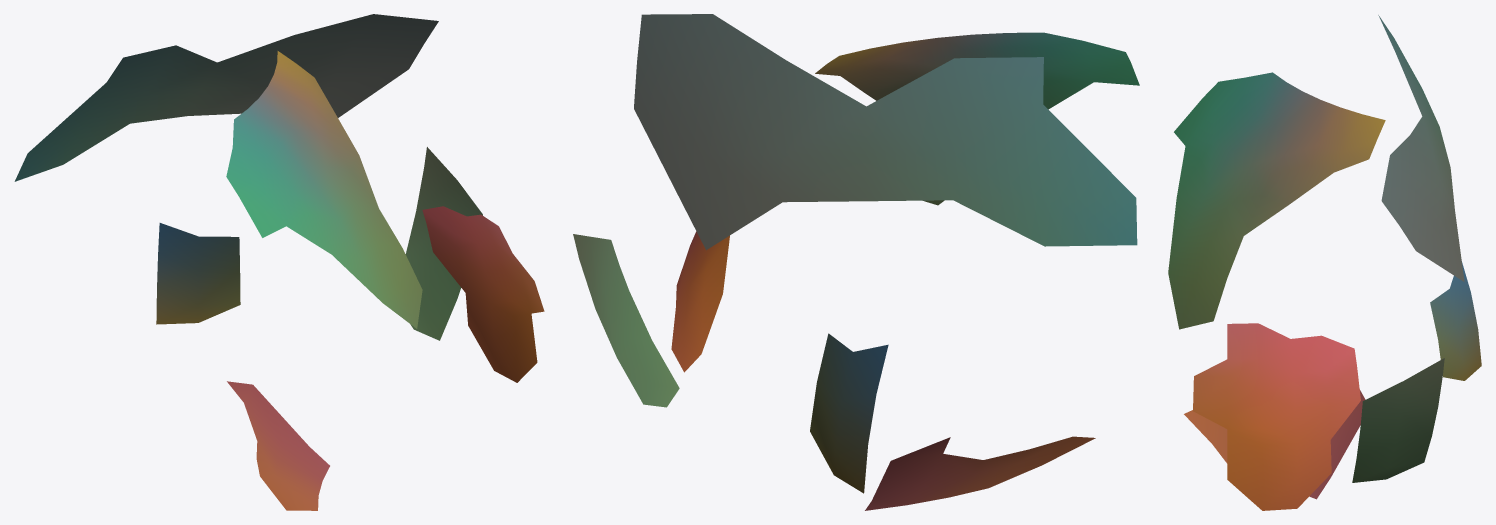
Rendered from space-nebulae-nebula_v19.glb.
The picture shows the model from 3 angles, left to right: view 1: azimuth 30°, elevation 25°; view 2: azimuth 150°, elevation 25°; view 3: azimuth 270°, elevation 25°; orthographic projection. The views are drawn at different scales.
Visible parts, largest first — view 1: Nebula_v19; view 2: Nebula_v19; view 3: Nebula_v19.
Boxes of the visible parts, x1,y1,x2,y2 form: Nebula_v19: (14,14,544,510); Nebula_v19: (573,14,1139,510); Nebula_v19: (1168,15,1481,510).
Size of the model in its own units: 0.5 by 0.4603 by 0.3234.
